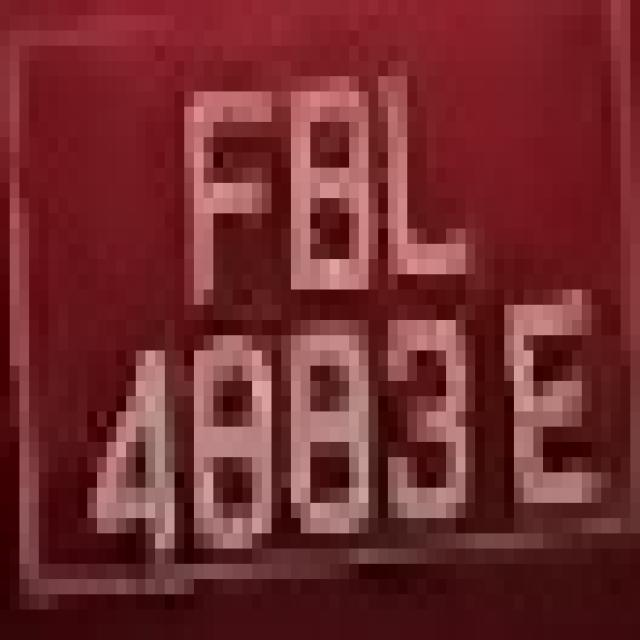3: (369, 290, 475, 548)
4: (68, 305, 184, 564)
8: (262, 274, 378, 594), (175, 304, 281, 548)
B: (262, 61, 398, 320)
E: (494, 259, 592, 533)
F: (155, 46, 272, 320)
L: (368, 30, 494, 305)
